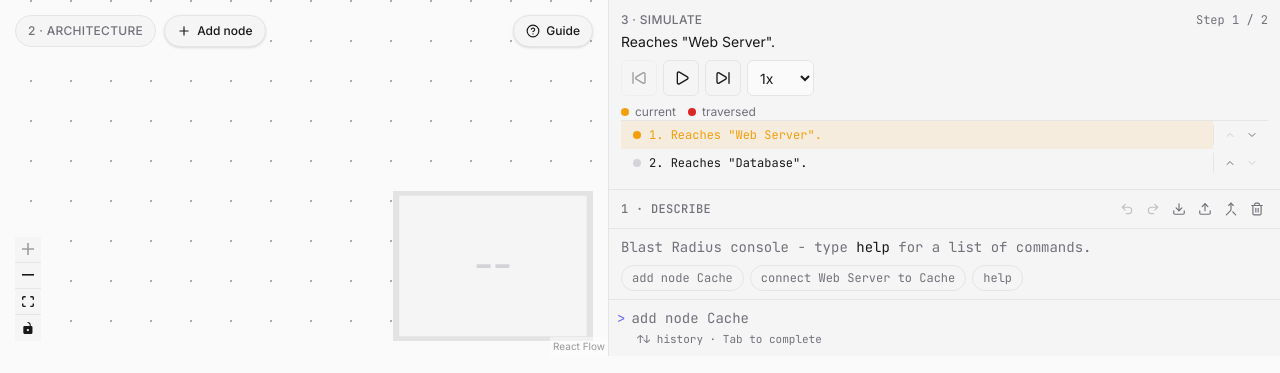
ArchitectureWorkspace › typing "export" downloads the architecture as JSON and logs a success message
This screenshot has width=1280, height=373.
Type "export" into the dropdown named "Command" at (952, 318), box [631,308,1272,328]
Then press Enter
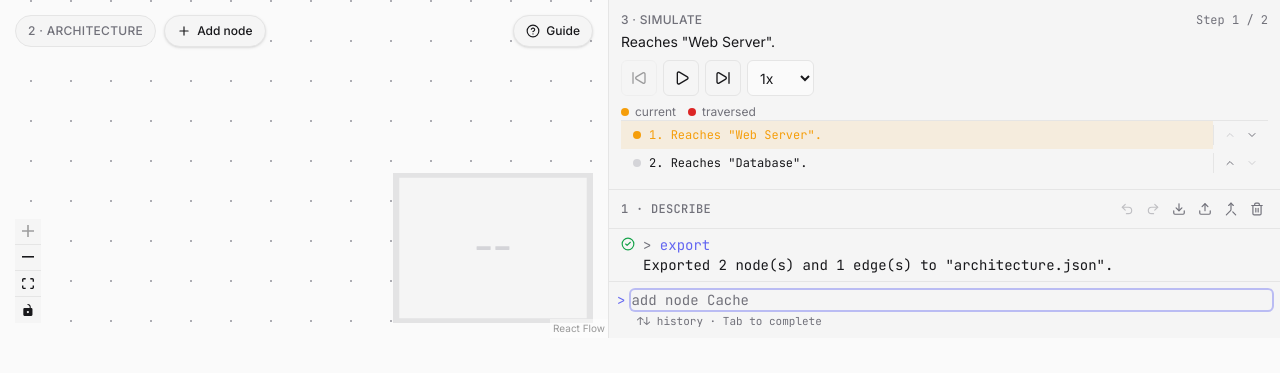
Expected: the text "Exported 2 node(s) and 1 edge(s) to \"architecture.json\"." is shown, [643,256,1113,274]
